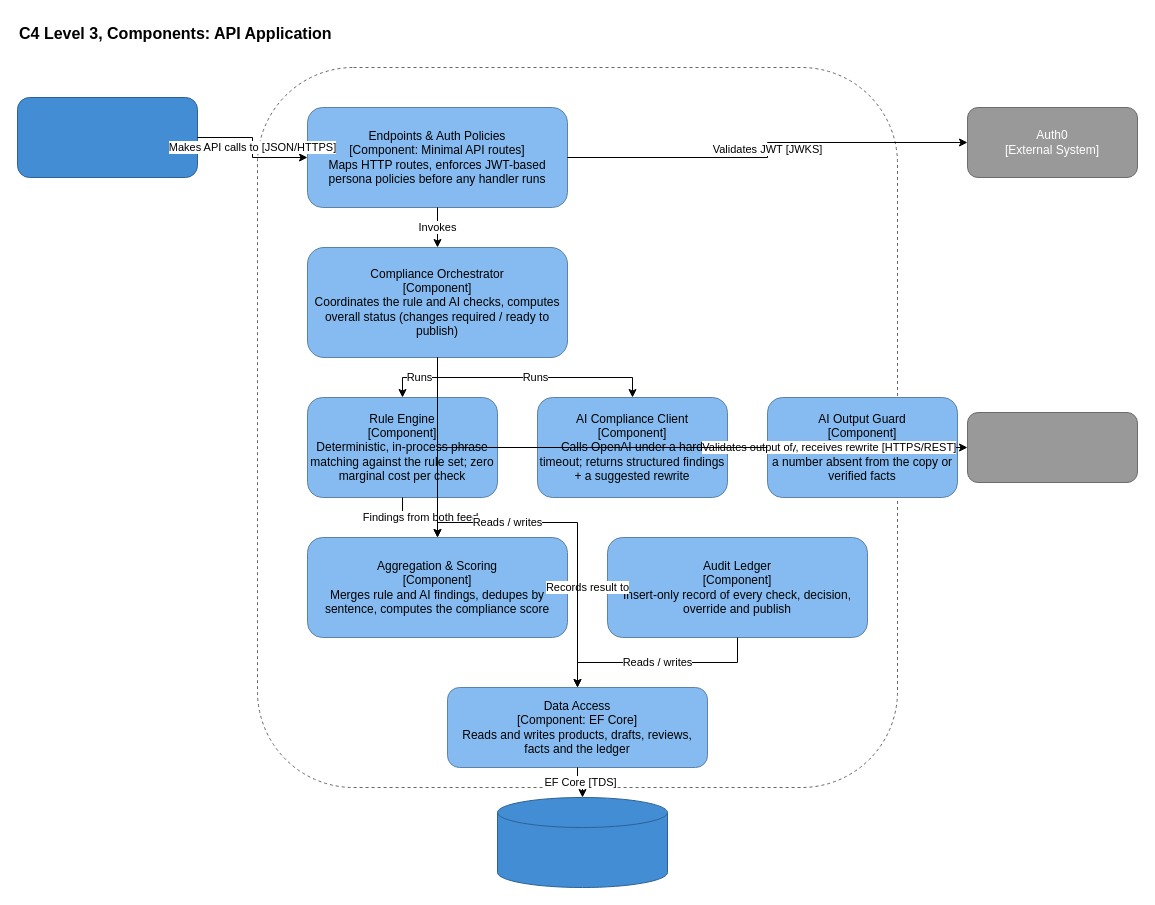
Image size: 1155x905. Some labels were removed from this diagram. Here are the shapes that lost their labels. From the top down, the box of each, then its label:
(16, 96, 198, 178): Web Application [Container: React SPA]
(256, 66, 898, 788): API Application [Container: .NET 10 minimal API]
(966, 412, 1138, 482): OpenAI (gpt-4o-mini) [External System]
(496, 796, 668, 888): Database [Container: Azure SQL]
